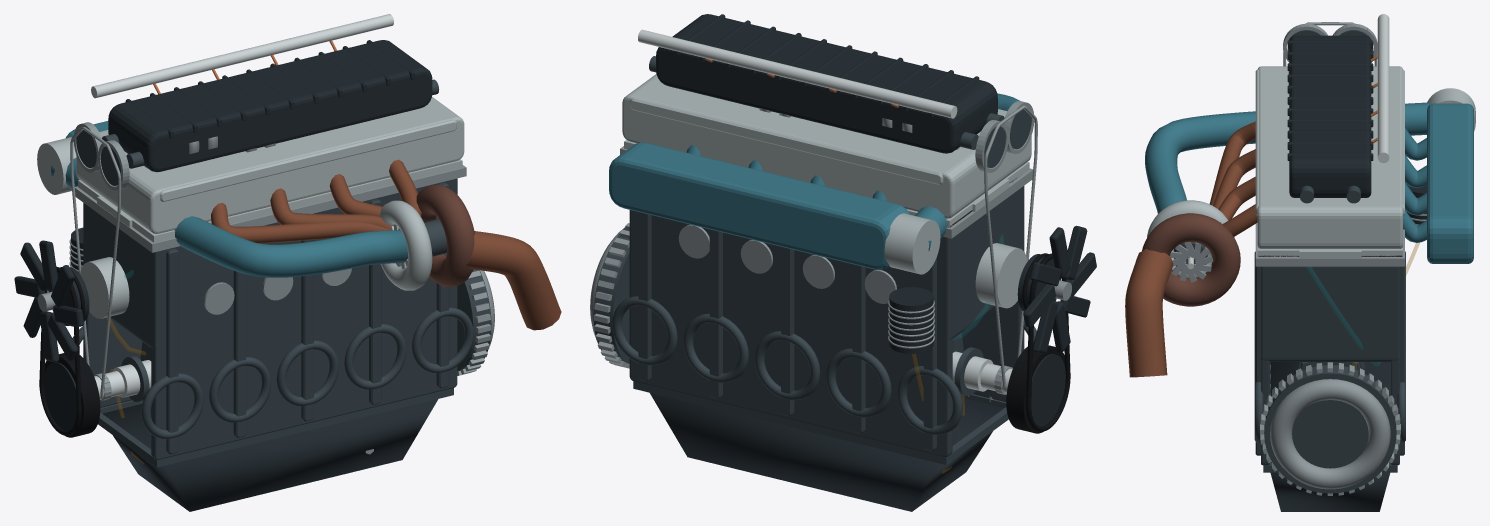
Rendered from semantic-engine.glb.
3 views of the same model, side by side, from view 1: azimuth 30°, elevation 25°; view 2: azimuth 150°, elevation 25°; view 3: azimuth 270°, elevation 25° (orthographic). The views are drawn at different scales.
Visible parts, largest first — view 1: structural-solid__engine-block__002__instance-002, structural-solid__cylinder-head__009, structural-solid__cylinder-head__001, structural-solid__oil-pan__005, structural-solid__intake-manifold__007, structural-solid__engine-block__003__instance-001, structural-solid__exhaust-manifold__005, structural-solid__injector__001, structural-solid__cylinder-head__022, structural-solid__turbocharger__001, structural-solid__turbocharger__002, structural-solid__exhaust-manifold__001 (+32 smaller); view 2: structural-solid__engine-block__001__instance-001, structural-solid__cylinder-head__009, structural-solid__intake-manifold__001, structural-solid__cylinder-head__001, structural-solid__oil-pan__005, structural-solid__engine-block__003__instance-001, structural-solid__injector__001, structural-solid__cylinder-head__021, structural-solid__engine-block__002__instance-002, structural-solid__intake-manifold__006, structural-solid__oil-pan__002__instance-002, structural-solid__oil-system__001 (+33 smaller); view 3: structural-solid__cylinder-head__001, structural-solid__engine-block__004__instance-002, structural-solid__cylinder-head__009, structural-solid__intake-manifold__001, dynamic-mechanism__flywheel__001, dynamic-mechanism__flywheel__002, structural-solid__intake-manifold__007, structural-solid__turbocharger__001, structural-solid__exhaust-manifold__005, structural-solid__oil-pan__005, structural-solid__injector__001, structural-solid__turbocharger__002 (+22 smaller).
Part boxes in pixels (bbox=[...]): structural-solid__engine-block__002__instance-002: bbox=[151, 179, 457, 459]; structural-solid__cylinder-head__009: bbox=[108, 40, 432, 172]; structural-solid__cylinder-head__001: bbox=[76, 97, 464, 233]; structural-solid__oil-pan__005: bbox=[102, 399, 438, 511]; structural-solid__intake-manifold__007: bbox=[51, 158, 407, 277]; structural-solid__engine-block__003__instance-001: bbox=[83, 203, 166, 349]; structural-solid__exhaust-manifold__005: bbox=[465, 231, 561, 330]; structural-solid__injector__001: bbox=[91, 14, 393, 98]; structural-solid__cylinder-head__022: bbox=[160, 119, 456, 201]; structural-solid__turbocharger__001: bbox=[416, 185, 474, 286]; structural-solid__turbocharger__002: bbox=[380, 200, 432, 290]; structural-solid__exhaust-manifold__001: bbox=[211, 202, 389, 243]; structural-solid__engine-block__001__instance-001: bbox=[629, 211, 952, 456]; structural-solid__cylinder-head__009: bbox=[656, 14, 997, 153]; structural-solid__intake-manifold__001: bbox=[609, 142, 910, 269]; structural-solid__cylinder-head__001: bbox=[622, 74, 1031, 218]; structural-solid__oil-pan__005: bbox=[650, 393, 1003, 511]; structural-solid__engine-block__003__instance-001: bbox=[937, 186, 1024, 341]; structural-solid__injector__001: bbox=[638, 29, 957, 118]; structural-solid__cylinder-head__021: bbox=[630, 98, 943, 184]; structural-solid__engine-block__002__instance-002: bbox=[962, 300, 1024, 401]; structural-solid__intake-manifold__006: bbox=[884, 213, 940, 274]; structural-solid__oil-pan__002__instance-002: bbox=[633, 381, 950, 464]; structural-solid__oil-system__001: bbox=[889, 287, 933, 353]; structural-solid__cylinder-head__001: bbox=[1257, 66, 1402, 248]; structural-solid__engine-block__004__instance-002: bbox=[1261, 266, 1399, 361]; structural-solid__cylinder-head__009: bbox=[1289, 35, 1371, 197]; structural-solid__intake-manifold__001: bbox=[1427, 103, 1473, 263]; dynamic-mechanism__flywheel__001: bbox=[1264, 365, 1396, 493]; dynamic-mechanism__flywheel__002: bbox=[1270, 379, 1390, 489]; structural-solid__intake-manifold__007: bbox=[1145, 102, 1430, 213]; structural-solid__turbocharger__001: bbox=[1142, 213, 1240, 306]; structural-solid__exhaust-manifold__005: bbox=[1125, 249, 1173, 377]; structural-solid__oil-pan__005: bbox=[1270, 362, 1390, 511]; structural-solid__injector__001: bbox=[1377, 14, 1389, 163]; structural-solid__turbocharger__002: bbox=[1147, 200, 1234, 277].
Size of what is drawn, in the model's own units: 7.23 by 6.44 by 5.4.
